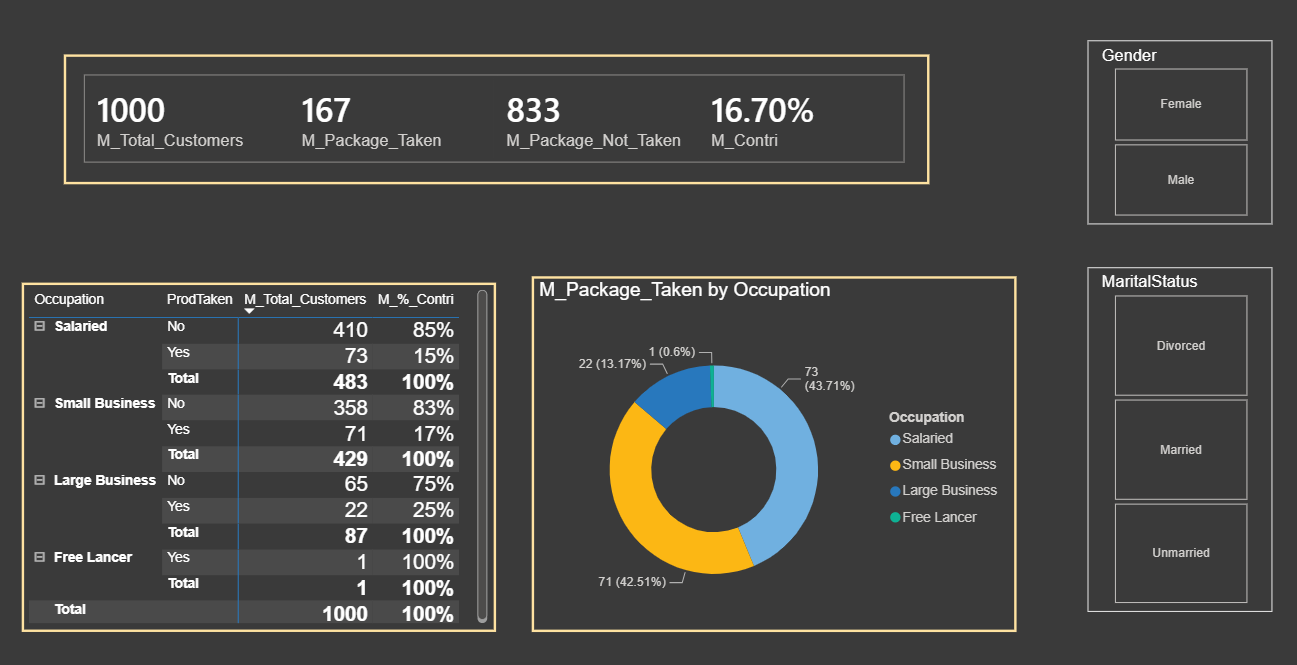

The page's visual inventory and layout, read from the dashboard file:
{"tool":"powerbi","page":{"name":"Occupation","canvas":[1280,720],"ordinal":2},"visuals":[{"type":"cardVisual","fields":{"Data":["Tour_Data.M_Total_Customers","Tour_Data.M_Package_Taken","Tour_Data.M_Package_Not_Taken","Tour_Data.M_Contri"]},"box":[75.6,69.4,841.6,126.4],"z":0},{"type":"slicer","fields":{"Values":["Tour_Data.MaritalStatus"]},"box":[1070.9,276.4,179.7,334.7],"z":1000},{"type":"slicer","fields":{"Values":["Tour_Data.Gender"]},"box":[1070.9,55.8,179.7,178.5],"z":2000},{"type":"pivotTable","fields":{"Rows":["Tour_Data.Occupation","Tour_Data.ProdTaken"],"Values":["Tour_Data.M_Total_Customers","Tour_Data.M_%_Contri"]},"box":[34.7,291.3,461.1,339.6],"z":3000},{"type":"donutChart","fields":{"Y":["Tour_Data.M_Package_Taken"],"Category":["Tour_Data.Occupation"]},"box":[530.5,285.1,471,345.8],"z":4000}]}

Visuals, with their boxes on the page's 1280x720 design canvas (x1, y1, x2, y2). These are canvas units, not pixel positions in the 1297x665 screenshot, which may show the page scaled, cropped or inside an application window:
cardVisual - Tour_Data.M_Total_Customers x Tour_Data.M_Package_Taken: <box>76,69,917,196</box>
slicer - Tour_Data.MaritalStatus: <box>1071,276,1251,611</box>
slicer - Tour_Data.Gender: <box>1071,56,1251,234</box>
pivotTable - Tour_Data.Occupation x Tour_Data.ProdTaken: <box>35,291,496,631</box>
donutChart - Tour_Data.M_Package_Taken x Tour_Data.Occupation: <box>530,285,1002,631</box>
